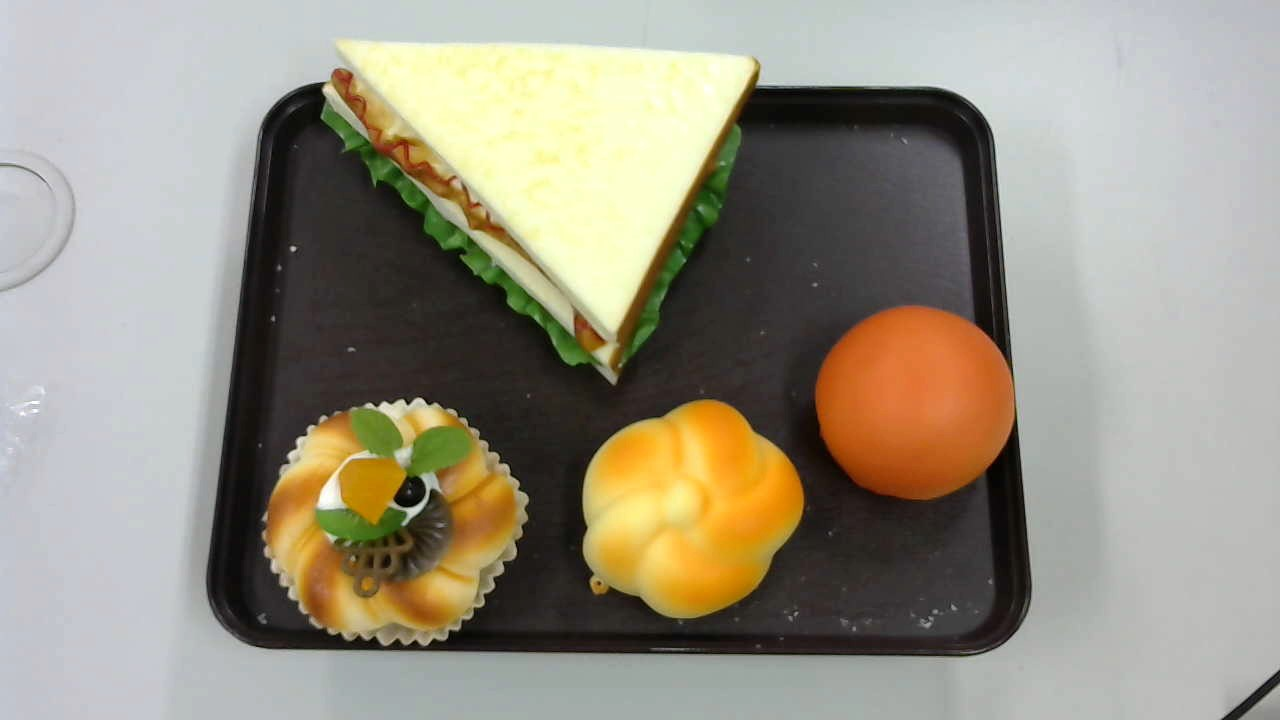bun: (815, 305, 1015, 498)
fruit tart: (263, 395, 530, 647)
sandwich: (321, 36, 762, 386)
twist bread: (580, 399, 804, 622)
